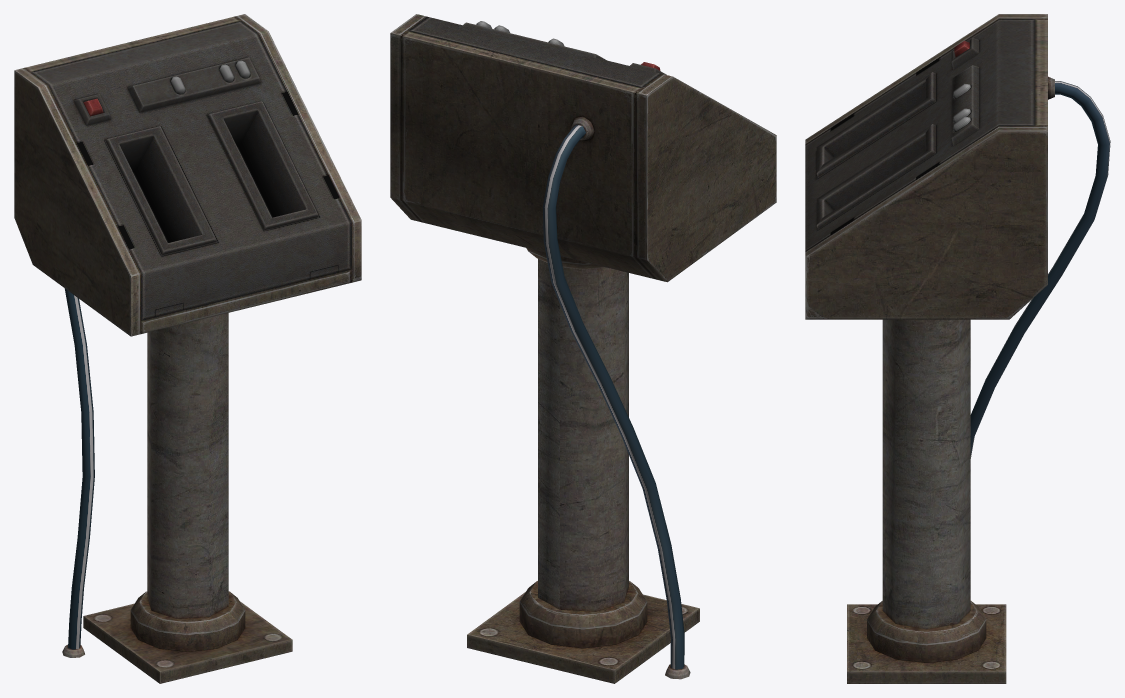
File: lever_pplant_break_base.dae
3 views of the same model, side by side, from view 1: azimuth 30°, elevation 25°; view 2: azimuth 150°, elevation 25°; view 3: azimuth 270°, elevation 25° (orthographic). The views are drawn at different scales.
Parts seen in each view (by area): view 1: low; view 2: low; view 3: low.
Part boxes in pixels (<box>): low: <box>14,14,361,683</box>; low: <box>390,14,776,683</box>; low: <box>805,14,1110,683</box>.
Size of the model in its own units: 0.609 by 1.4 by 0.6703.
